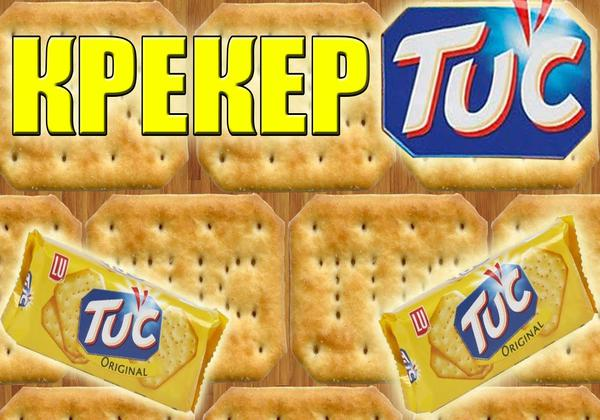crackers tuc: (380, 235, 592, 411), (4, 240, 218, 414)
